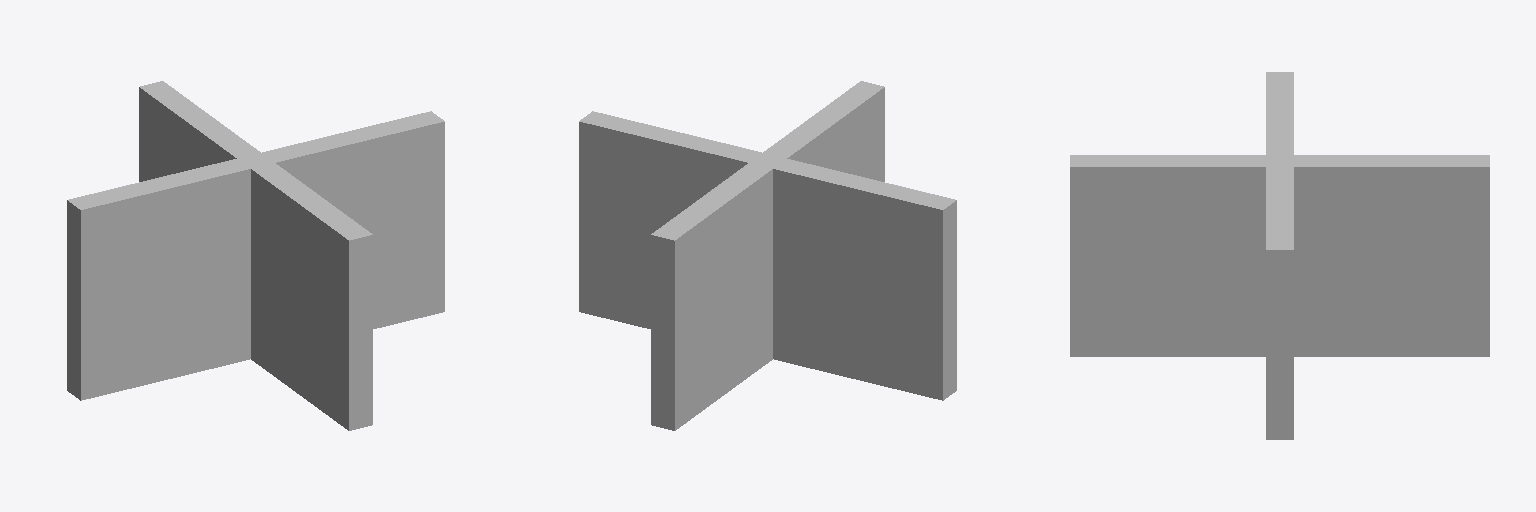
File: WallPlus.obj
3 renders of one model, left to right at view 1: azimuth 30°, elevation 25°; view 2: azimuth 150°, elevation 25°; view 3: azimuth 270°, elevation 25°, orthographic.
Parts seen in each view (by area): view 1: WallPlus; view 2: WallPlus; view 3: WallPlus.
Boxes of the visible parts, x1,y1,x2,y2 form: WallPlus: [67, 81, 444, 430]; WallPlus: [579, 81, 956, 430]; WallPlus: [1070, 72, 1489, 439].
Size of the model in its own units: 6 by 3 by 6.